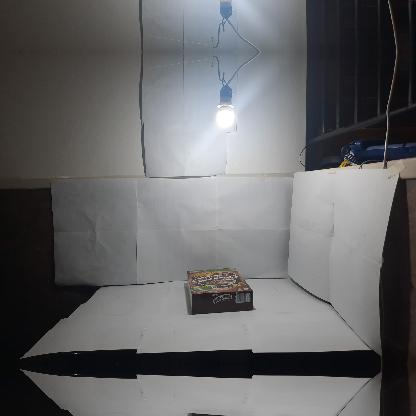Koko-Krunch: (186, 267, 254, 313)
